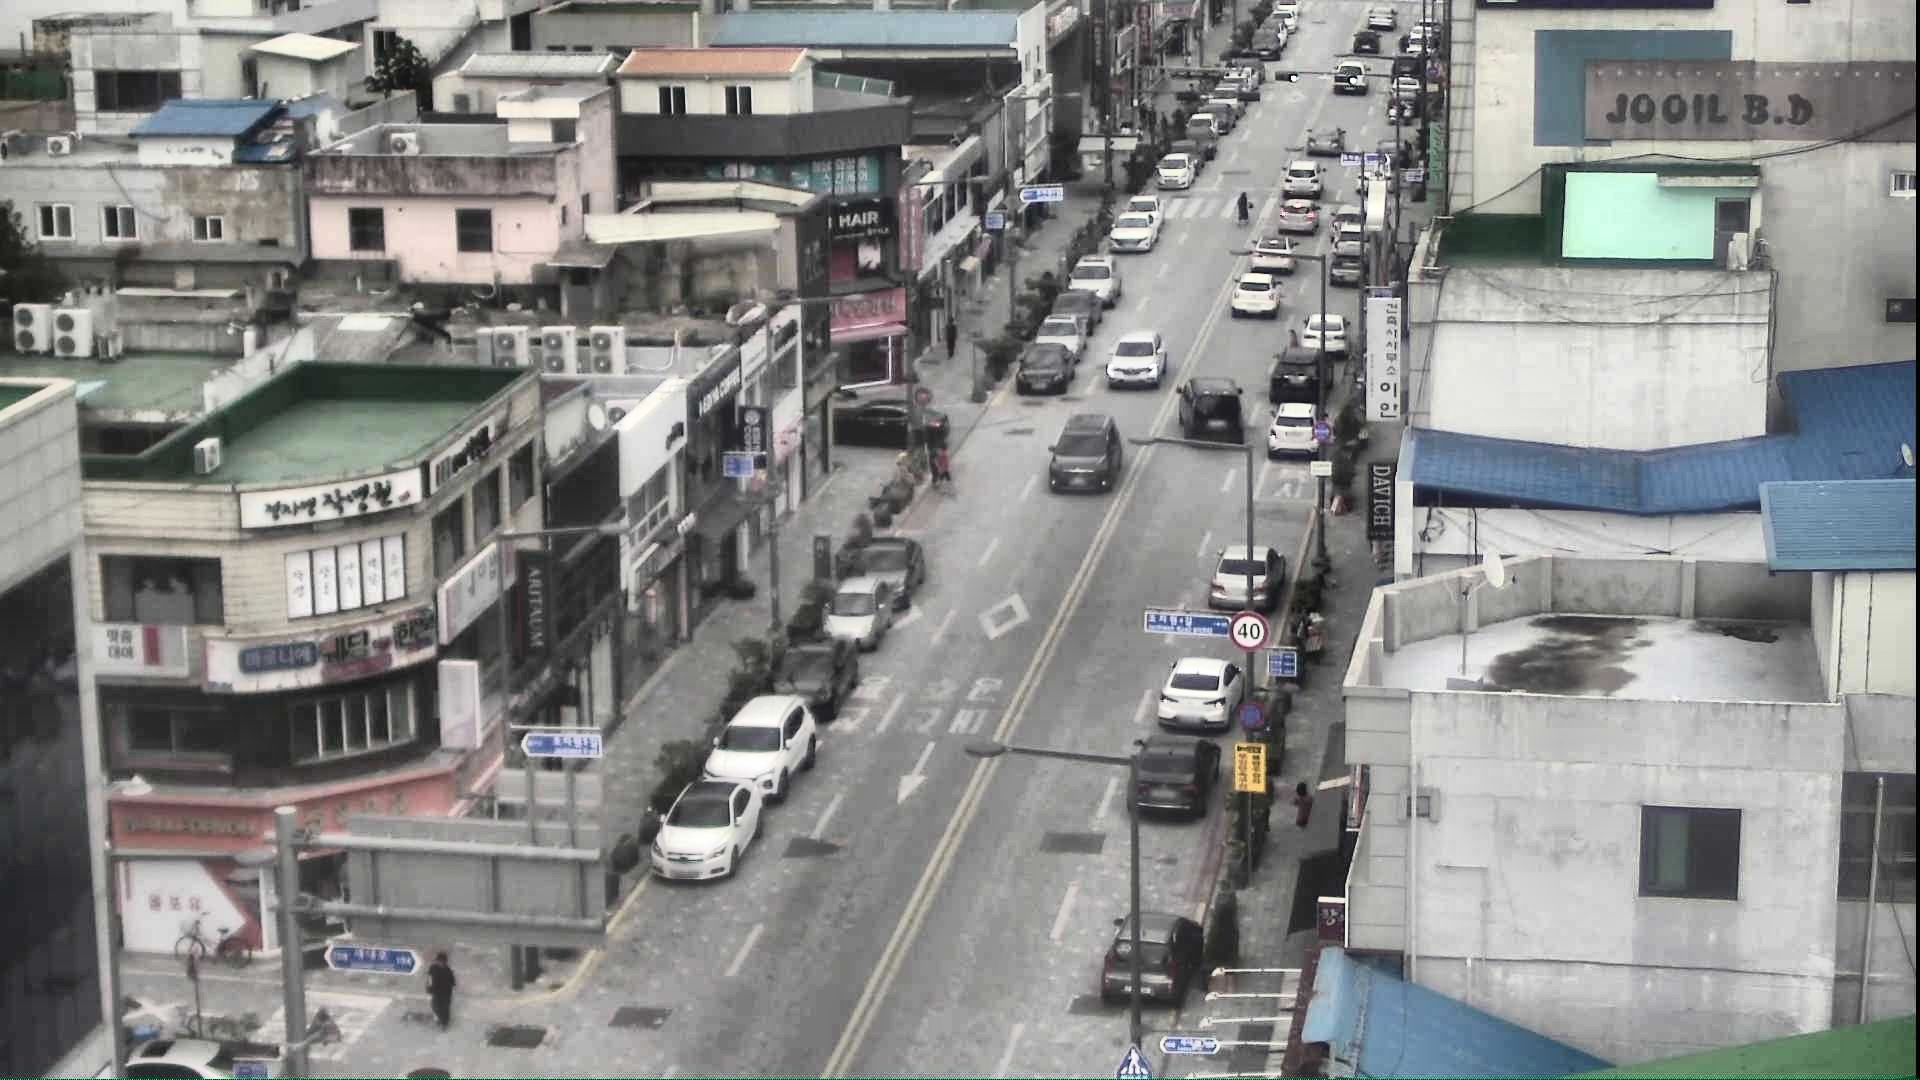crosswalk: (1237, 190, 1251, 229)
jaywalk: (423, 948, 459, 1029), (932, 439, 953, 495)
sidewalk: (1288, 775, 1319, 852), (943, 315, 960, 361)
